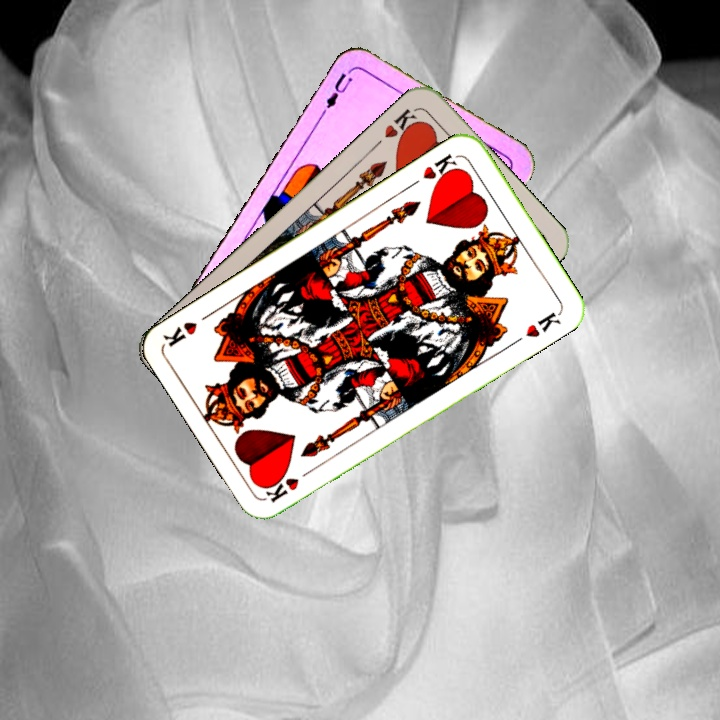EU: (321, 69, 356, 111)
HK: (262, 464, 317, 506), (380, 104, 424, 145), (418, 150, 463, 187)
